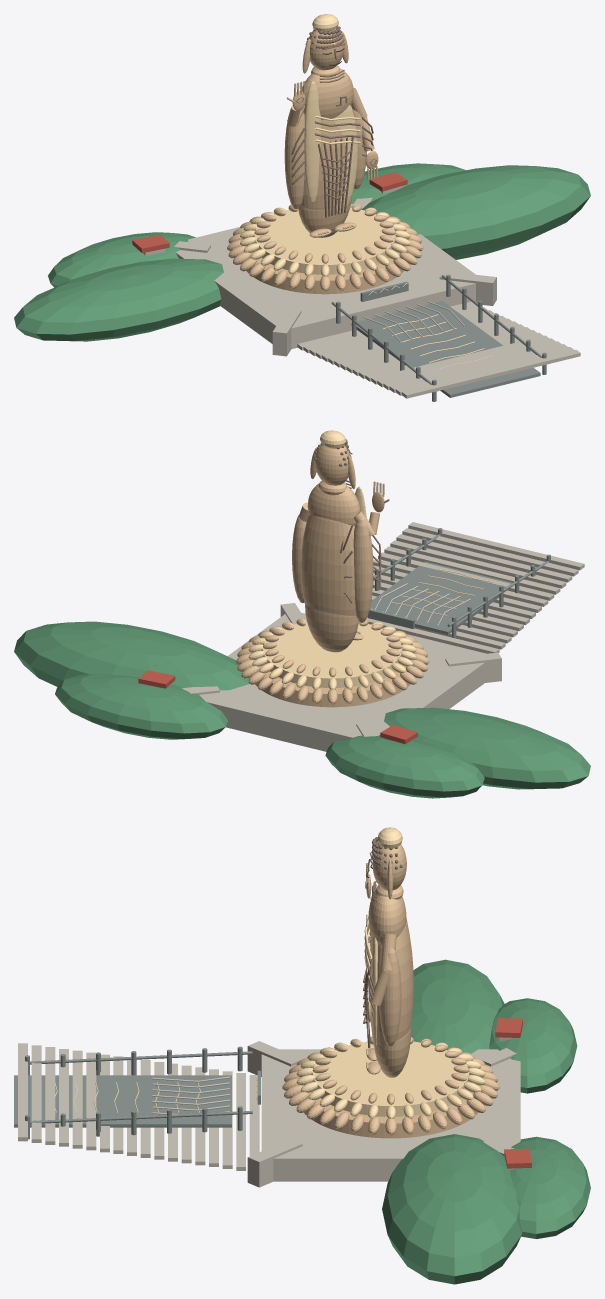
The model's file is lingshan_buddha_blockout_v1.glb.
3 views of the same model, one above another, from view 1: azimuth 30°, elevation 25°; view 2: azimuth 150°, elevation 25°; view 3: azimuth 270°, elevation 25° (orthographic). The views are drawn at different scales.
Parts seen in each view (by area): view 1: lingshan_buddha_blockout_v1, lingshan_buddha_blockout_v1_octagonal_main_platform, lingshan_buddha_blockout_v1_front_dark_inscription_panel, lingshan_buddha_blockout_v1_round_lotus_plinth_upper, lingshan_buddha_blockout_v1_standing_robe_main_mass, lingshan_buddha_blockout_v1_left_outer_drape_panel, lingshan_buddha_blockout_v1_chest_smooth_core, lingshan_buddha_blockout_v1_round_lotus_plinth_lower, lingshan_buddha_blockout_v1_left_hanging_sleeve_mass, lingshan_buddha_blockout_v1_front_apron_robe_panel, lingshan_buddha_blockout_v1_lower_robe_taper, lingshan_buddha_blockout_v1_calm_oval_head (+2 smaller); view 2: lingshan_buddha_blockout_v1, lingshan_buddha_blockout_v1_octagonal_main_platform, lingshan_buddha_blockout_v1_front_dark_inscription_panel, lingshan_buddha_blockout_v1_standing_robe_main_mass, lingshan_buddha_blockout_v1_round_lotus_plinth_upper, lingshan_buddha_blockout_v1_left_hanging_sleeve_mass, lingshan_buddha_blockout_v1_lower_robe_taper, lingshan_buddha_blockout_v1_round_lotus_plinth_lower, lingshan_buddha_blockout_v1_chest_smooth_core, lingshan_buddha_blockout_v1_calm_oval_head, lingshan_buddha_blockout_v1_right_hanging_sleeve_mass; view 3: lingshan_buddha_blockout_v1, lingshan_buddha_blockout_v1_octagonal_main_platform, lingshan_buddha_blockout_v1_front_dark_inscription_panel, lingshan_buddha_blockout_v1_round_lotus_plinth_upper, lingshan_buddha_blockout_v1_standing_robe_main_mass, lingshan_buddha_blockout_v1_round_lotus_plinth_lower, lingshan_buddha_blockout_v1_right_hanging_sleeve_mass, lingshan_buddha_blockout_v1_chest_smooth_core, lingshan_buddha_blockout_v1_calm_oval_head, lingshan_buddha_blockout_v1_lower_robe_taper, lingshan_buddha_blockout_v1_front_rail_right, lingshan_buddha_blockout_v1_front_rail_left.
Part boxes in pixels (x1,y1,x2,y2): lingshan_buddha_blockout_v1: [14, 26, 590, 401]; lingshan_buddha_blockout_v1_octagonal_main_platform: [176, 204, 475, 349]; lingshan_buddha_blockout_v1_front_dark_inscription_panel: [351, 301, 540, 397]; lingshan_buddha_blockout_v1_round_lotus_plinth_upper: [254, 207, 395, 274]; lingshan_buddha_blockout_v1_standing_robe_main_mass: [301, 106, 351, 209]; lingshan_buddha_blockout_v1_left_outer_drape_panel: [304, 81, 321, 203]; lingshan_buddha_blockout_v1_chest_smooth_core: [302, 68, 353, 119]; lingshan_buddha_blockout_v1_round_lotus_plinth_lower: [246, 246, 404, 294]; lingshan_buddha_blockout_v1_left_hanging_sleeve_mass: [284, 109, 304, 209]; lingshan_buddha_blockout_v1_front_apron_robe_panel: [333, 105, 357, 213]; lingshan_buddha_blockout_v1_lower_robe_taper: [298, 196, 351, 237]; lingshan_buddha_blockout_v1_calm_oval_head: [309, 28, 344, 70]; lingshan_buddha_blockout_v1: [14, 439, 590, 798]; lingshan_buddha_blockout_v1_octagonal_main_platform: [199, 612, 484, 751]; lingshan_buddha_blockout_v1_front_dark_inscription_panel: [370, 561, 512, 634]; lingshan_buddha_blockout_v1_standing_robe_main_mass: [301, 515, 356, 616]; lingshan_buddha_blockout_v1_round_lotus_plinth_upper: [263, 622, 402, 687]; lingshan_buddha_blockout_v1_left_hanging_sleeve_mass: [353, 518, 373, 622]; lingshan_buddha_blockout_v1_lower_robe_taper: [305, 604, 358, 652]; lingshan_buddha_blockout_v1_round_lotus_plinth_lower: [254, 660, 410, 707]; lingshan_buddha_blockout_v1_chest_smooth_core: [307, 483, 360, 526]; lingshan_buddha_blockout_v1_calm_oval_head: [314, 444, 349, 485]; lingshan_buddha_blockout_v1_right_hanging_sleeve_mass: [292, 515, 306, 602]; lingshan_buddha_blockout_v1: [18, 837, 590, 1284]; lingshan_buddha_blockout_v1_octagonal_main_platform: [261, 1049, 520, 1181]; lingshan_buddha_blockout_v1_front_dark_inscription_panel: [14, 1075, 231, 1127]; lingshan_buddha_blockout_v1_round_lotus_plinth_upper: [313, 1041, 469, 1116]; lingshan_buddha_blockout_v1_standing_robe_main_mass: [368, 920, 413, 1045]; lingshan_buddha_blockout_v1_round_lotus_plinth_lower: [303, 1075, 479, 1138]; lingshan_buddha_blockout_v1_right_hanging_sleeve_mass: [379, 948, 401, 1046]; lingshan_buddha_blockout_v1_chest_smooth_core: [368, 890, 406, 944]; lingshan_buddha_blockout_v1_calm_oval_head: [372, 843, 406, 890]; lingshan_buddha_blockout_v1_lower_robe_taper: [375, 1025, 411, 1077]; lingshan_buddha_blockout_v1_front_rail_right: [29, 1111, 252, 1123]; lingshan_buddha_blockout_v1_front_rail_left: [29, 1051, 252, 1064].
Size of the model in its own units: 16.2 by 7.88 by 12.7.
